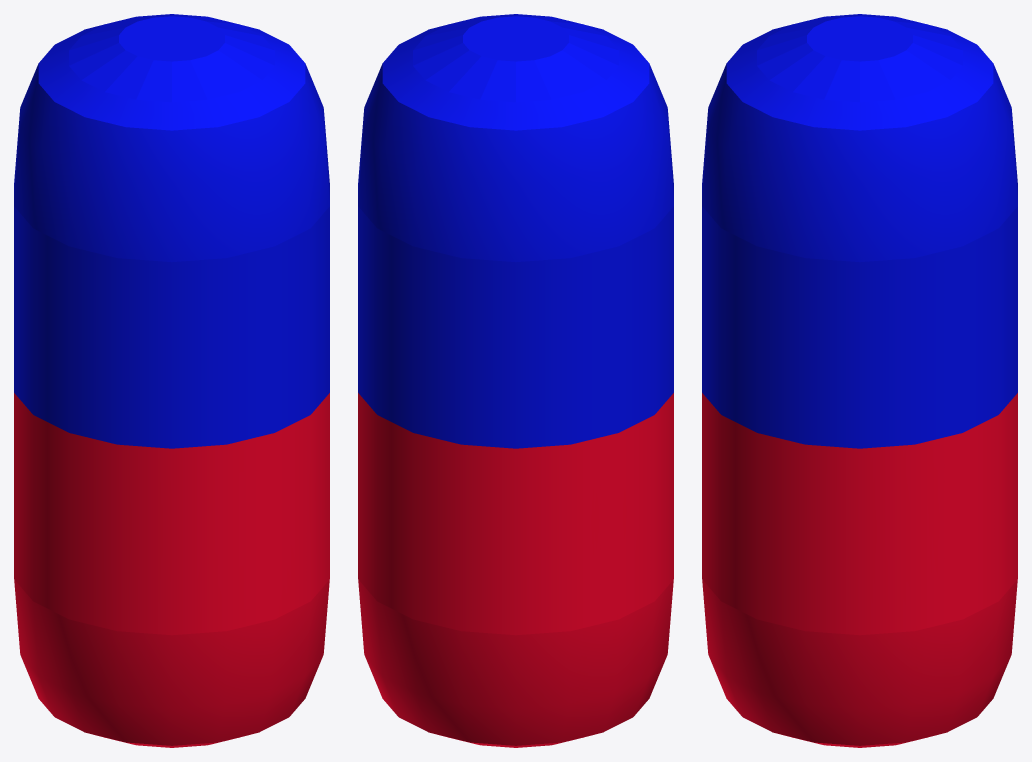
Rendered from Pill_v1.FBX.
3 renders of one model, left to right at view 1: azimuth 30°, elevation 25°; view 2: azimuth 150°, elevation 25°; view 3: azimuth 270°, elevation 25°, orthographic.
Visible parts, largest first — view 1: Pill; view 2: Pill; view 3: Pill.
Part boxes in pixels (<box>): Pill: <box>14,14,329,747</box>; Pill: <box>358,14,673,747</box>; Pill: <box>702,14,1017,747</box>.
Bounding box in the file's own units: 4.5 × 10.6 × 4.43.
1 material, 1 textured.
